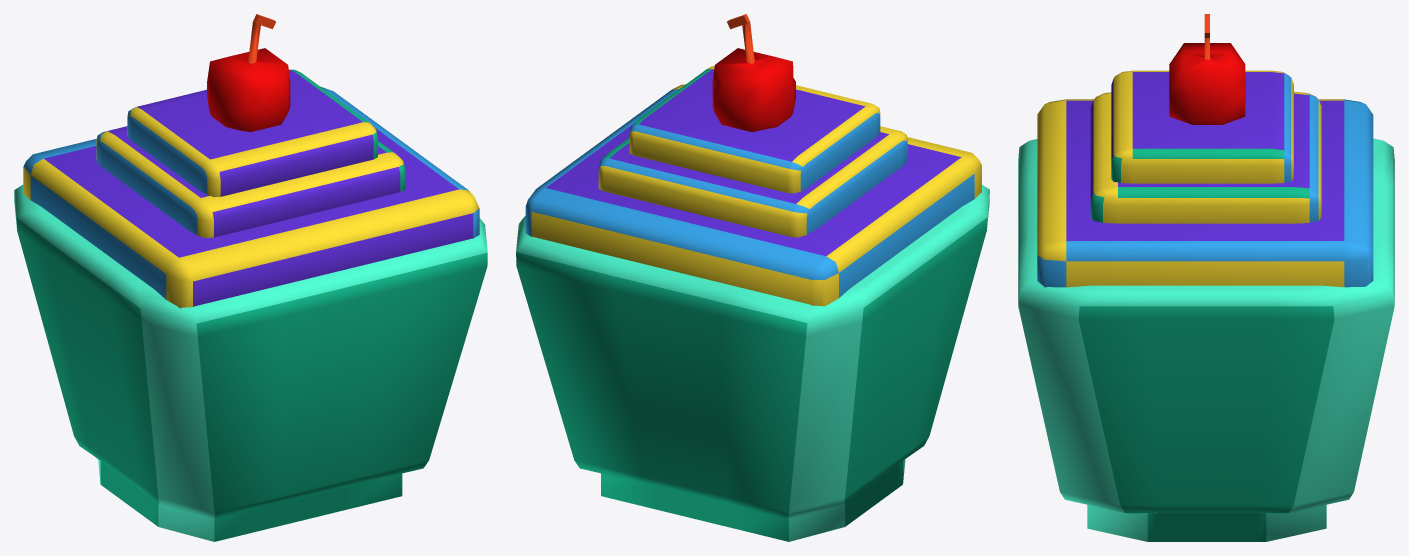
The model's file is CUPCAKE.FBX.
3 renders of one model, left to right at view 1: azimuth 30°, elevation 25°; view 2: azimuth 150°, elevation 25°; view 3: azimuth 270°, elevation 25°, orthographic. The views are drawn at different scales.
Visible parts, largest first — view 1: Box009; view 2: Box009; view 3: Box009.
Part boxes in pixels (x1=…): Box009: x1=14, y1=14, x2=487, y2=541; Box009: x1=516, y1=14, x2=989, y2=541; Box009: x1=1018, y1=14, x2=1394, y2=541.
Bounding box in the file's own units: 341 × 435 × 315.
